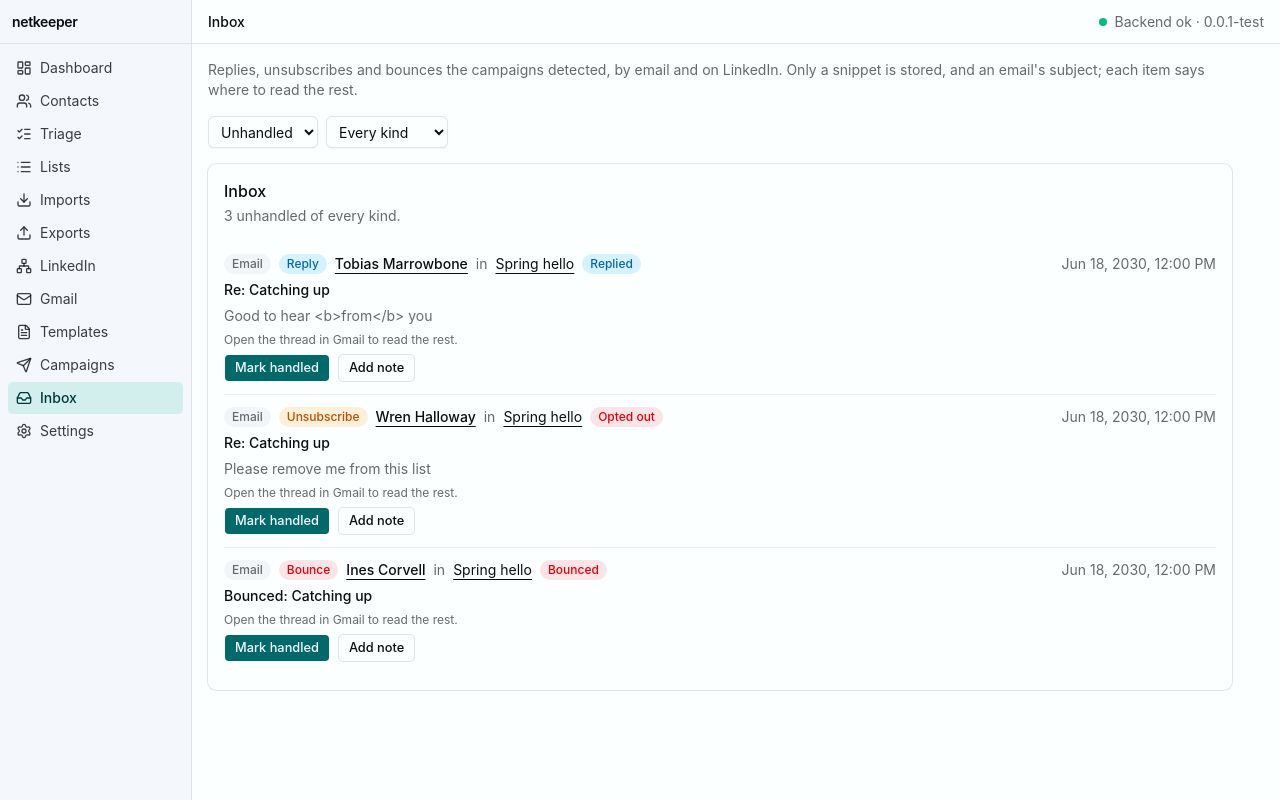
Test: inbox › still says how many match when the whole count fails
Check: the navigation bar named "Primary" is shown, box [0,44,191,455]
Check: the list item with aria-label "Reply from Tobias" is shown, box [224,242,1216,394]
Select "Bounce" in the dropdown named "Kind" at (387, 132), box [326,116,448,148]
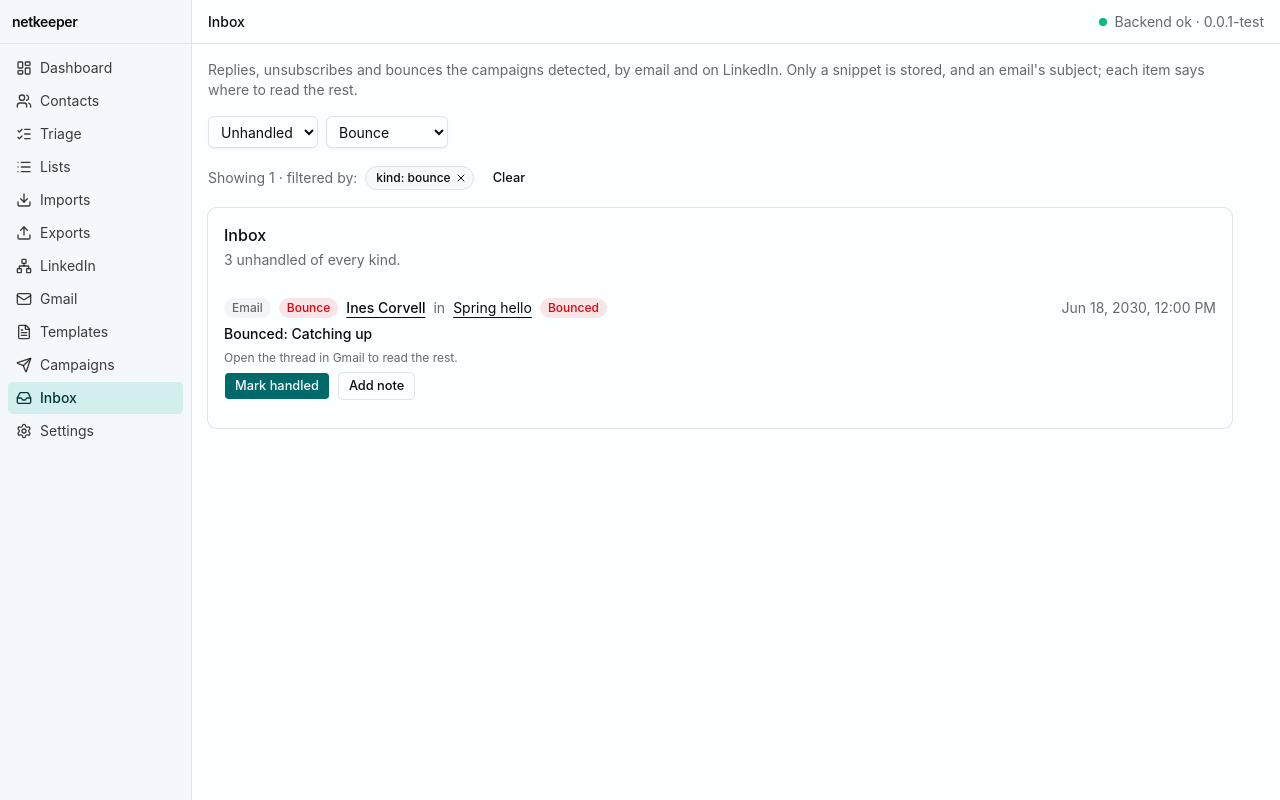
Check: the text "Showing 1 · filtered by:" is shown, box [208,168,357,188]
